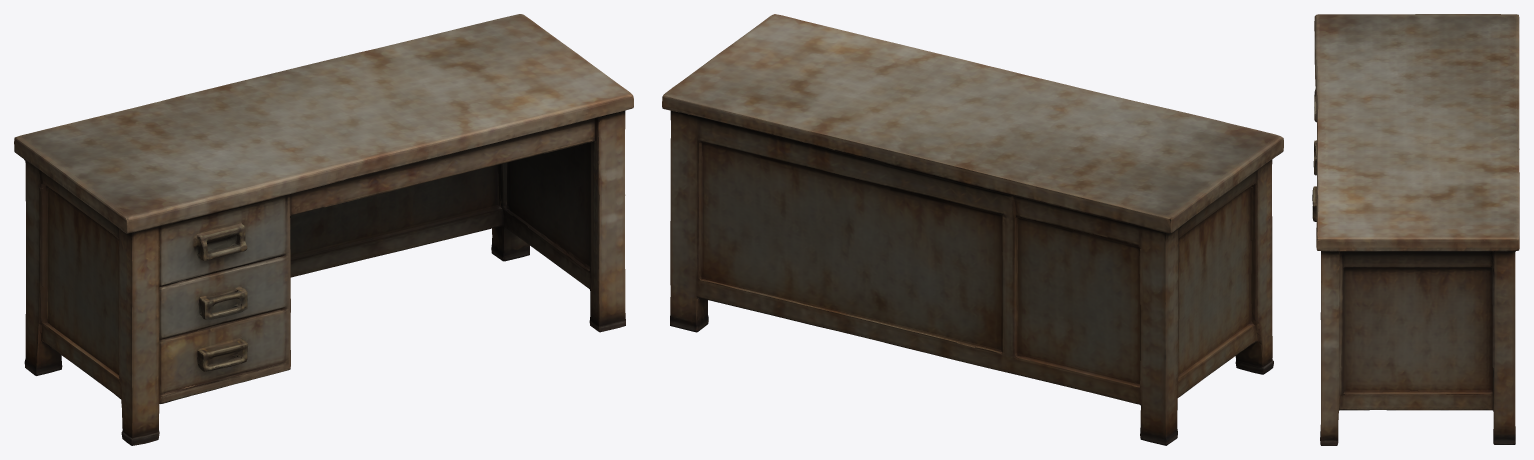
The picture shows the model from 3 angles, left to right: view 1: azimuth 30°, elevation 25°; view 2: azimuth 150°, elevation 25°; view 3: azimuth 270°, elevation 25°; orthographic projection. The views are drawn at different scales.
Parts seen in each view (by area): view 1: geometry_0; view 2: geometry_0; view 3: geometry_0.
Part boxes in pixels (left/top/right/bottom): geometry_0: left=14, top=14, right=633, bottom=445; geometry_0: left=662, top=14, right=1283, bottom=445; geometry_0: left=1312, top=14, right=1519, bottom=445.
Size of the model in its own units: 0.9995 by 0.4364 by 0.3892.
Materials: 1 (1 with a texture image).
